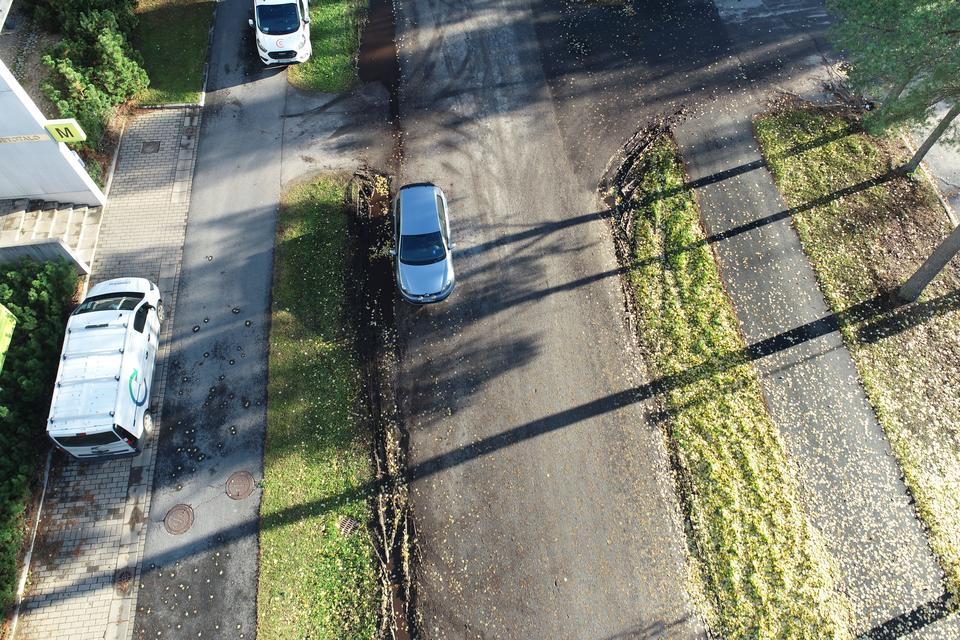intersection: (322, 0, 960, 216)
